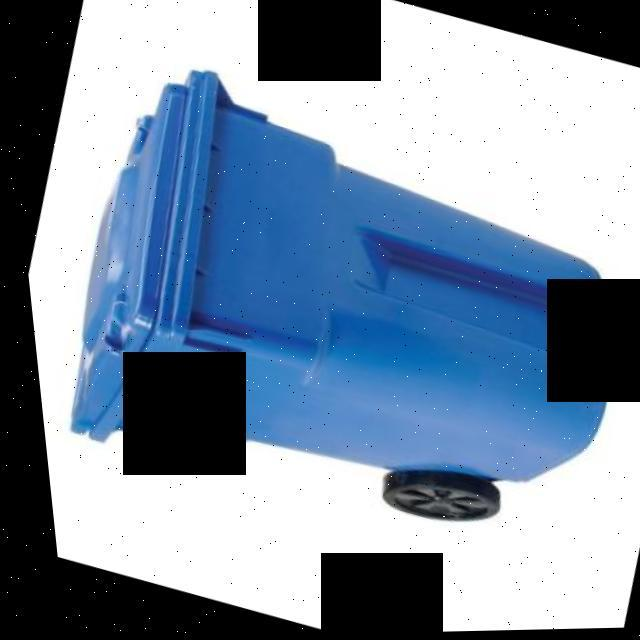bin: (3, 31, 640, 594)
